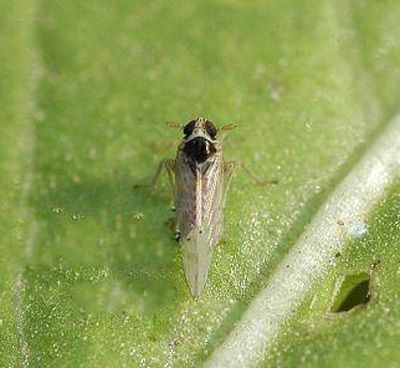Delphacidae: (133, 115, 277, 299)
